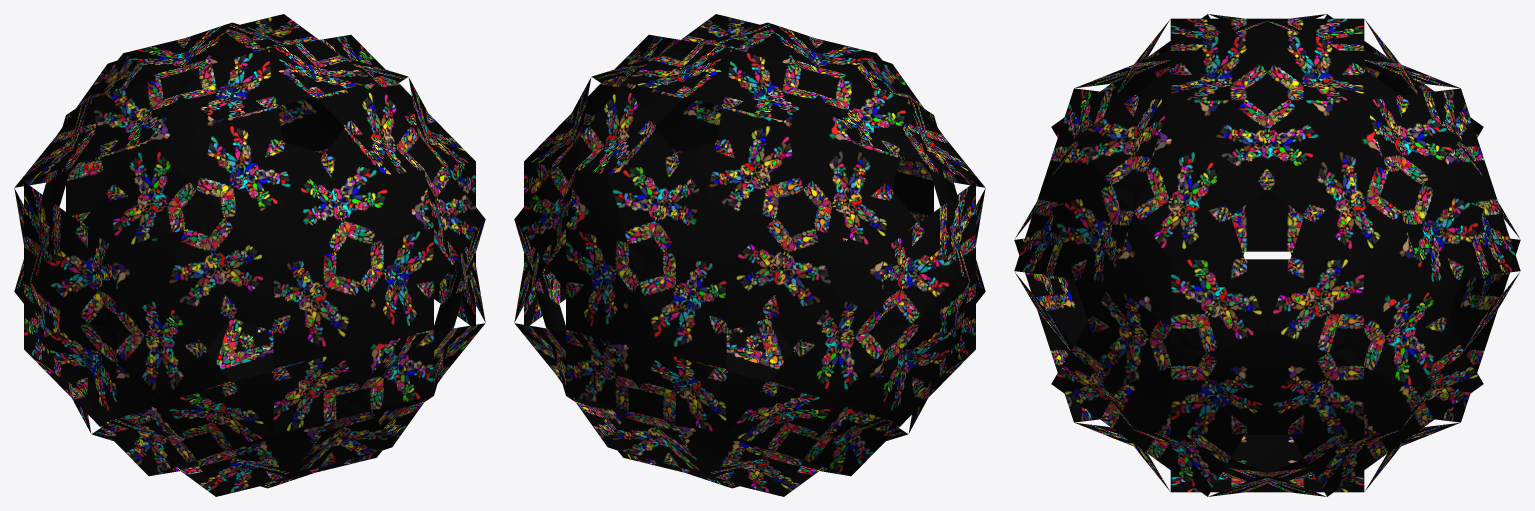
Rendered from 34Rhombidodecadodecahedron.gltf.
3 views of the same model, side by side, from view 1: azimuth 30°, elevation 25°; view 2: azimuth 150°, elevation 25°; view 3: azimuth 270°, elevation 25° (orthographic). The views are drawn at different scales.
Parts seen in each view (by area): view 1: Rhombidodecadodecahedron9; view 2: Rhombidodecadodecahedron9; view 3: Rhombidodecadodecahedron9.
Part boxes in pixels (left/top/right/bottom): Rhombidodecadodecahedron9: left=14, top=14, right=485, bottom=496; Rhombidodecadodecahedron9: left=514, top=14, right=985, bottom=496; Rhombidodecadodecahedron9: left=1014, top=14, right=1520, bottom=496.
Size of the model in its own units: 2.62 by 2.62 by 2.62.
1 material, 1 textured.
